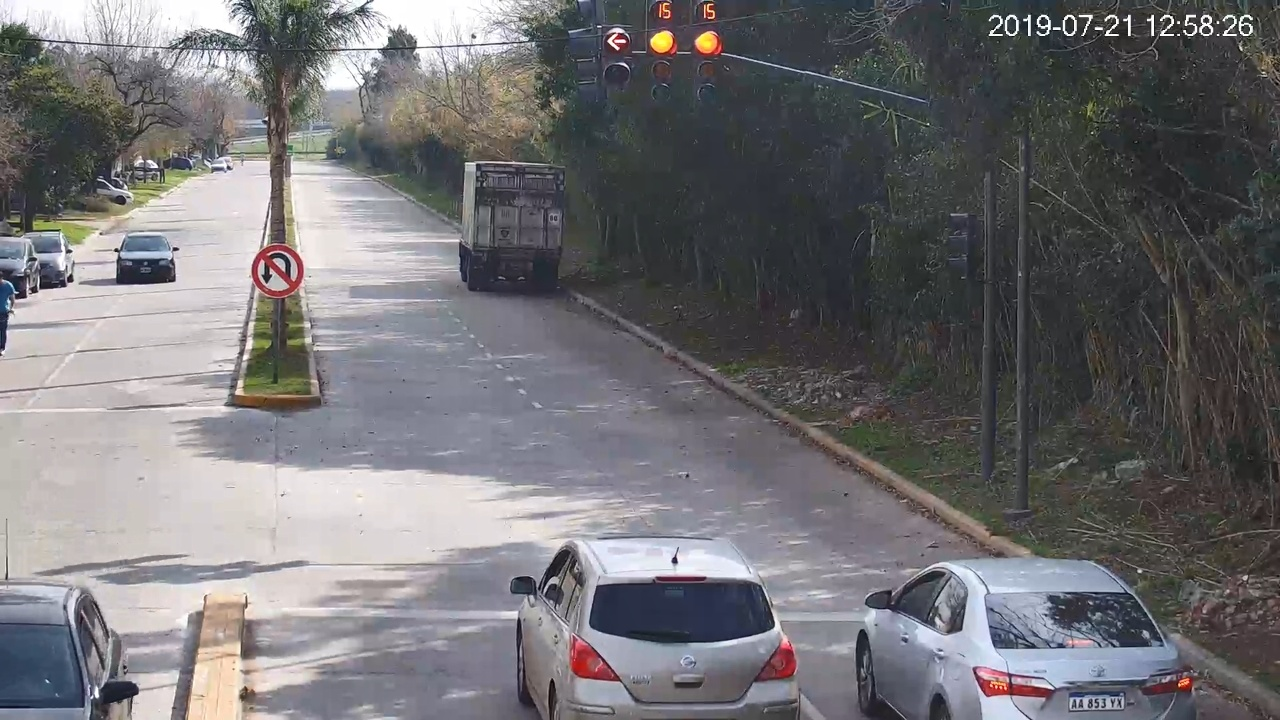car: (856, 558, 1198, 720), (512, 535, 801, 720)
traffic light: (646, 23, 679, 106), (691, 27, 723, 105)
truck: (459, 160, 565, 289)
